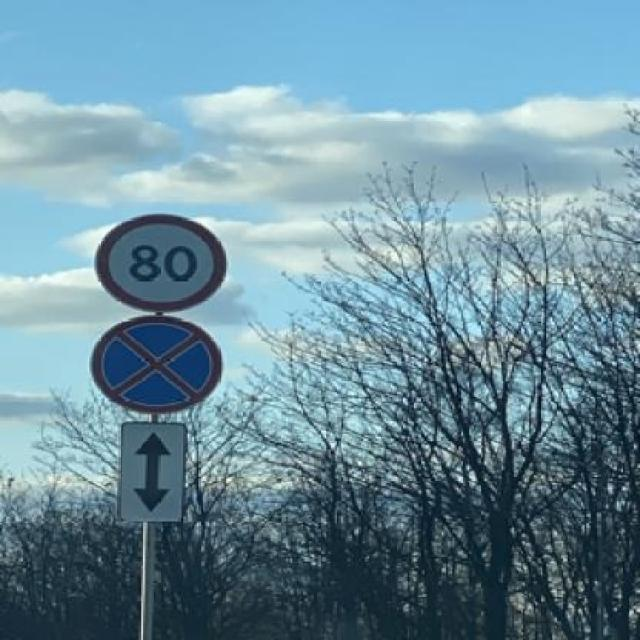forb_speed_over_80: (98, 215, 227, 311)
